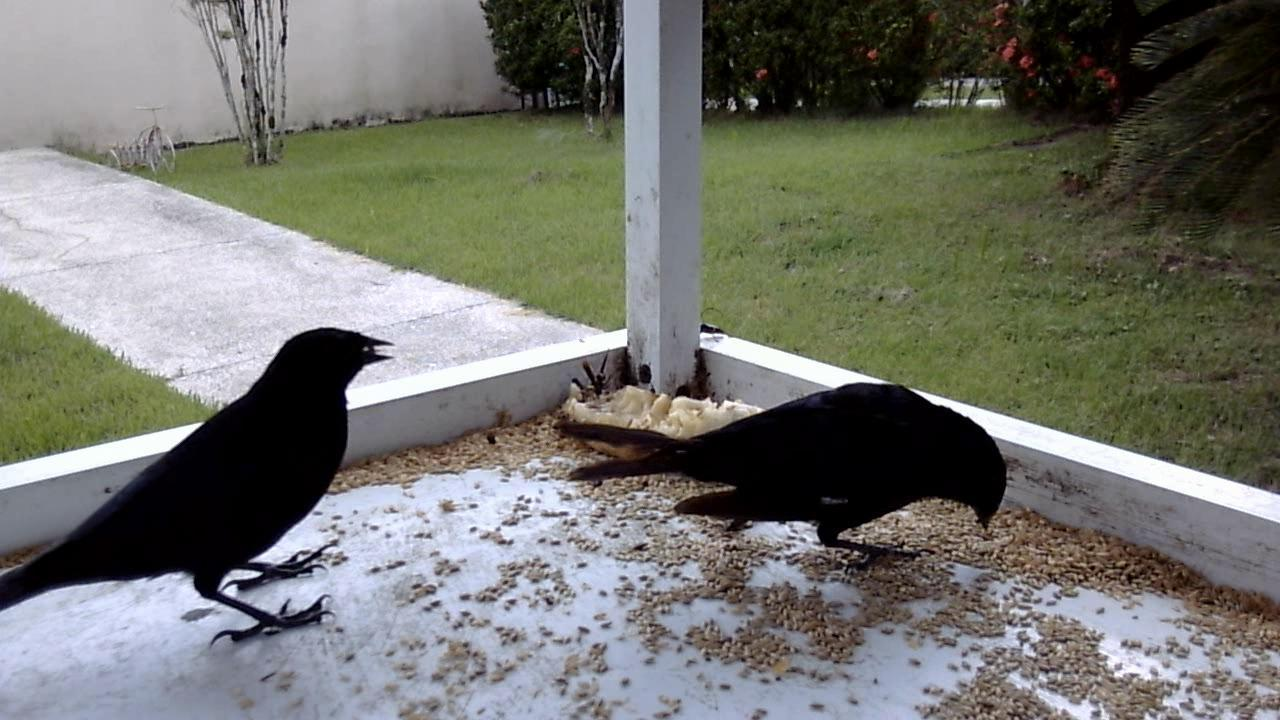chupim: (4, 315, 406, 669), (565, 371, 1010, 576)
